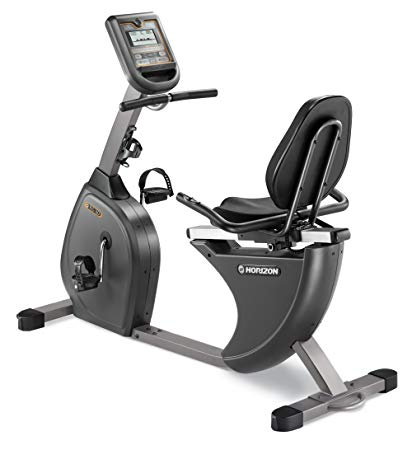gym_bike: (18, 4, 395, 434)
